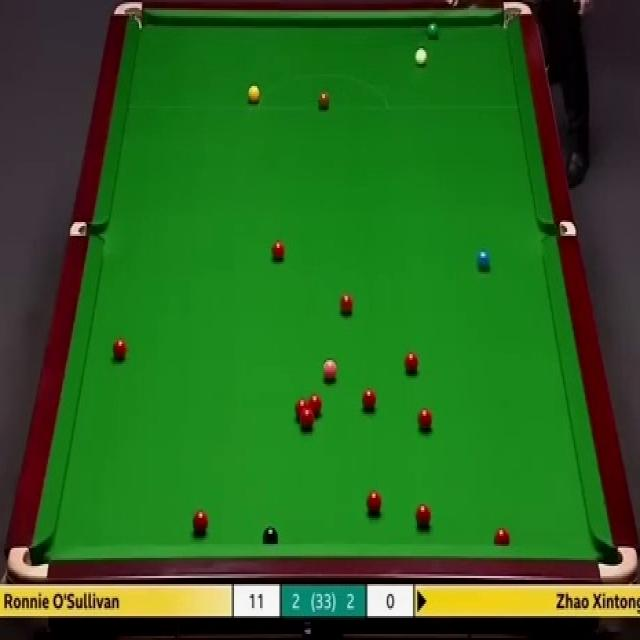black-ball: (262, 525, 280, 546)
blue-ball: (474, 249, 491, 271)
brown-ball: (318, 88, 330, 108)
green-ball: (426, 22, 439, 40)
pink-ball: (322, 359, 339, 384)
red-ball: (358, 385, 376, 411), (191, 508, 208, 535), (415, 504, 432, 530), (404, 349, 420, 375), (366, 490, 382, 516), (338, 291, 354, 316), (417, 406, 433, 429), (112, 335, 126, 360), (294, 398, 308, 422), (309, 393, 322, 418), (272, 237, 284, 264), (493, 526, 511, 543), (300, 411, 316, 430)
white-ball: (416, 47, 428, 68)
yellow-ball: (247, 86, 259, 102)
